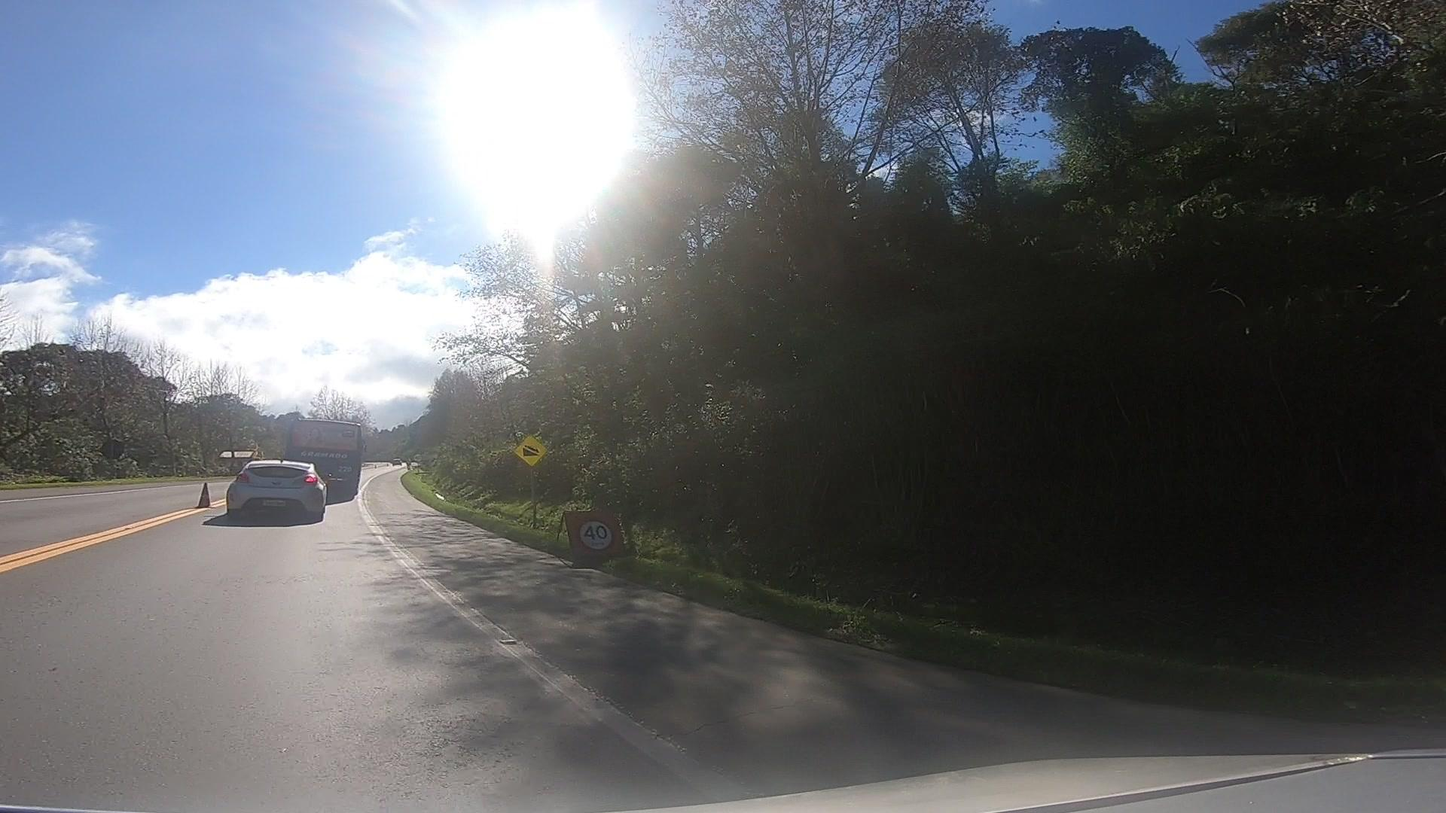R-19: (573, 516, 618, 556)
